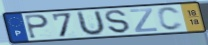7: (51, 11, 75, 38)
C: (157, 6, 185, 32)
P: (24, 14, 51, 40)
S: (104, 9, 132, 34)
U: (76, 9, 107, 37)
Z: (128, 7, 159, 34)
